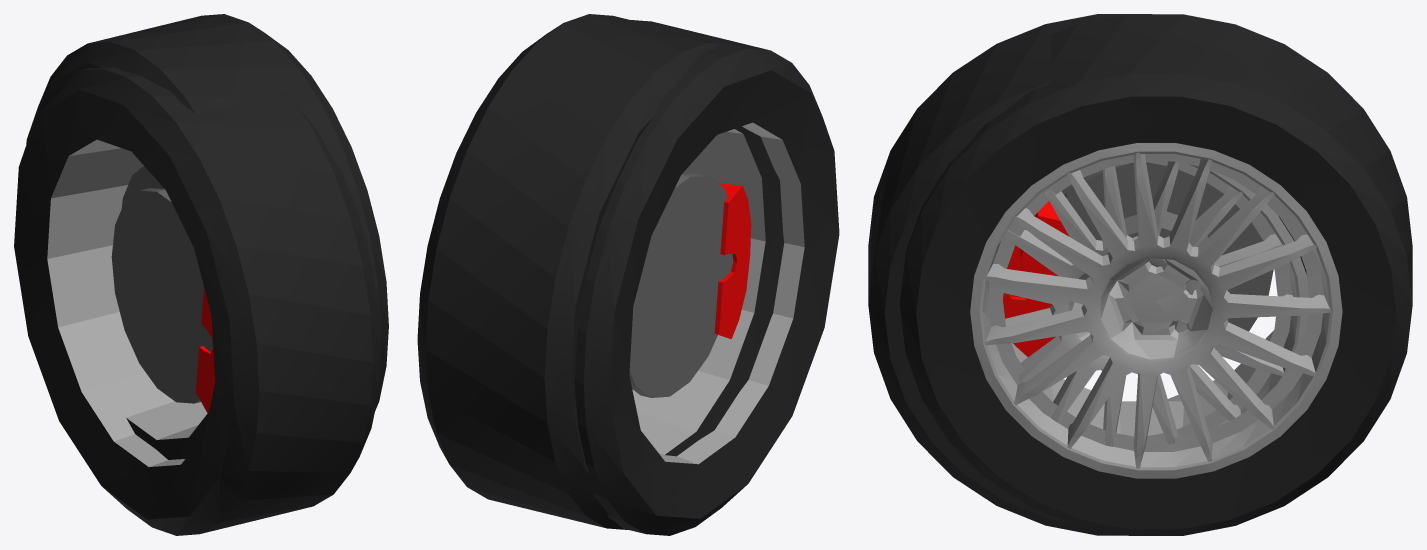
The model's file is rueda.dae.
3 renders of one model, left to right at view 1: azimuth 30°, elevation 25°; view 2: azimuth 150°, elevation 25°; view 3: azimuth 270°, elevation 25°, orthographic. The views are drawn at different scales.
Parts seen in each view (by area): view 1: group_1 (×4), group_0 (×3); view 2: group_0 (×2), group_1 (×4); view 3: group_0 (×5), group_1 (×4).
Part boxes in pixels (left/top/right/bottom): group_1 (×4): left=14, top=66, right=380, bottom=535; group_0 (×3): left=26, top=14, right=388, bottom=459; group_0 (×2): left=417, top=14, right=784, bottom=529; group_1 (×4): left=574, top=19, right=839, bottom=535; group_0 (×5): left=900, top=14, right=1412, bottom=535; group_1 (×4): left=868, top=14, right=1309, bottom=535.
Size of the model in its own units: 26.71 by 70.3 by 67.49.
